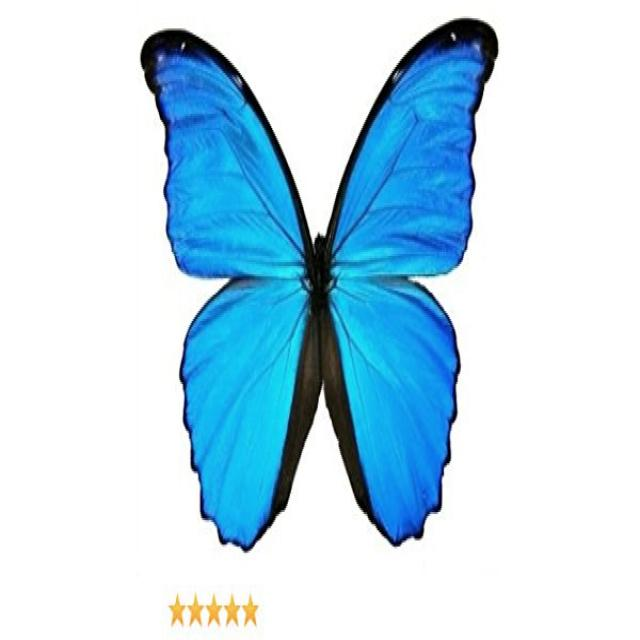butterfly: (142, 18, 498, 547)
